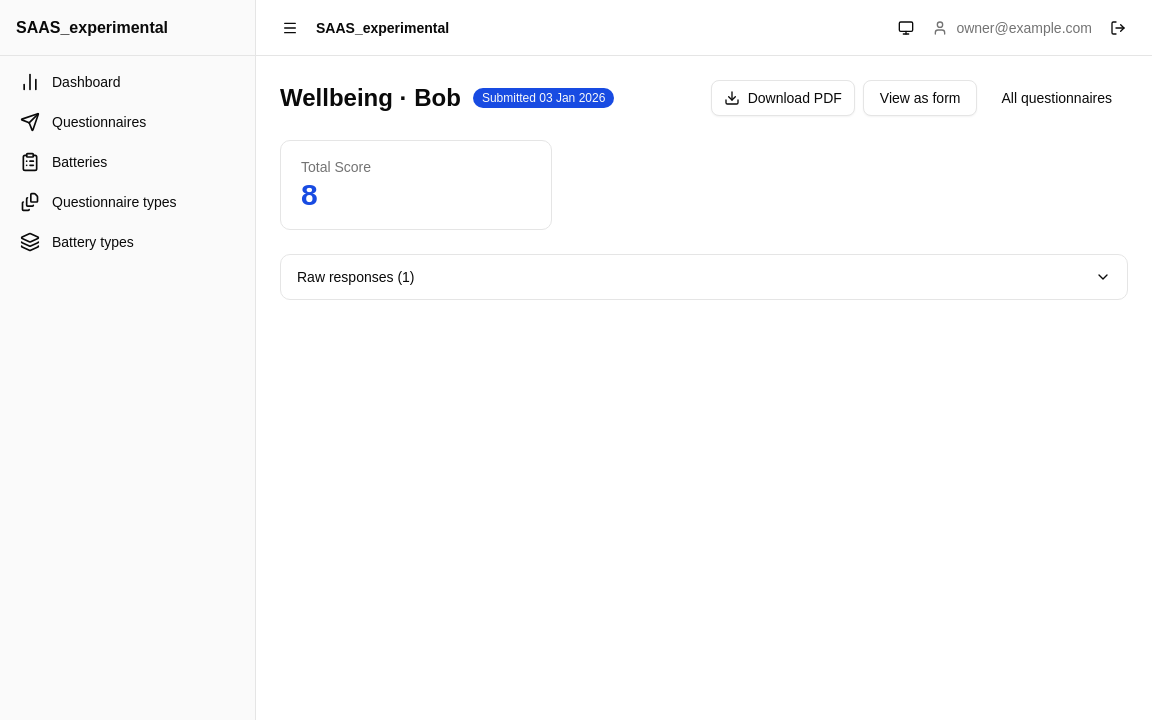
it: /questionnaires/$id/results › expands the raw responses
Click the button "Raw responses (1)". click: (350, 277)
box: [281,255,1127,299]
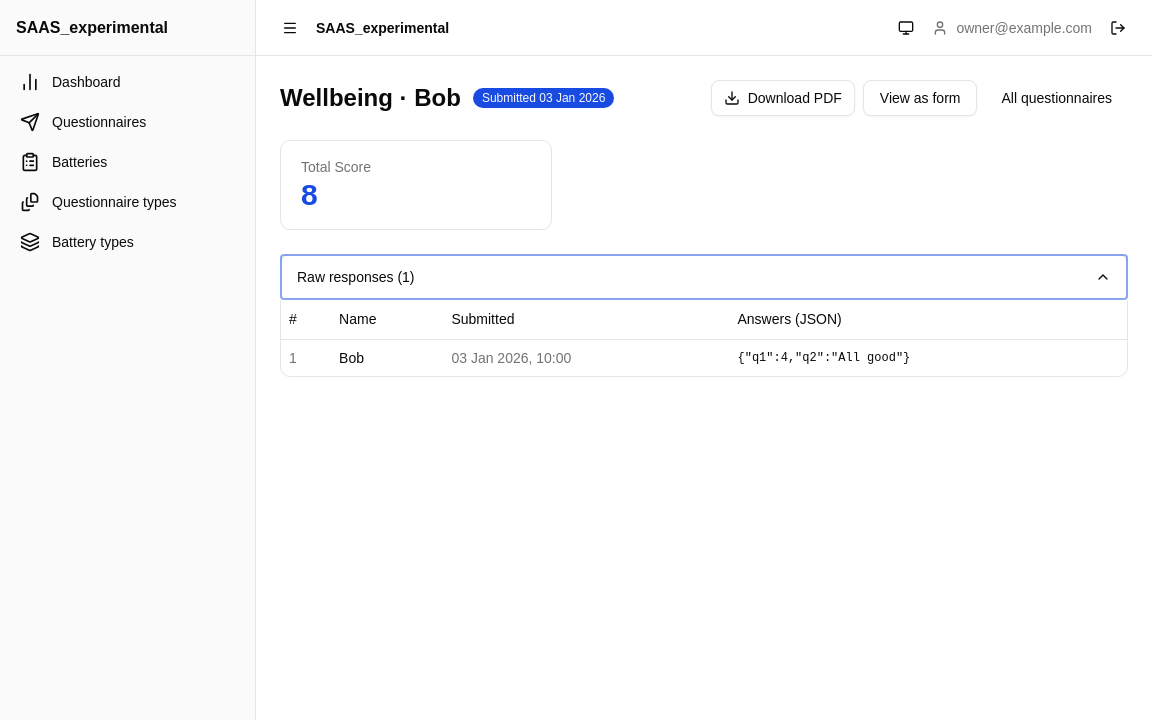
Now the text "{\"q1\":4,\"q2\":\"All good\"}" is shown, box [730,339,1127,376]
